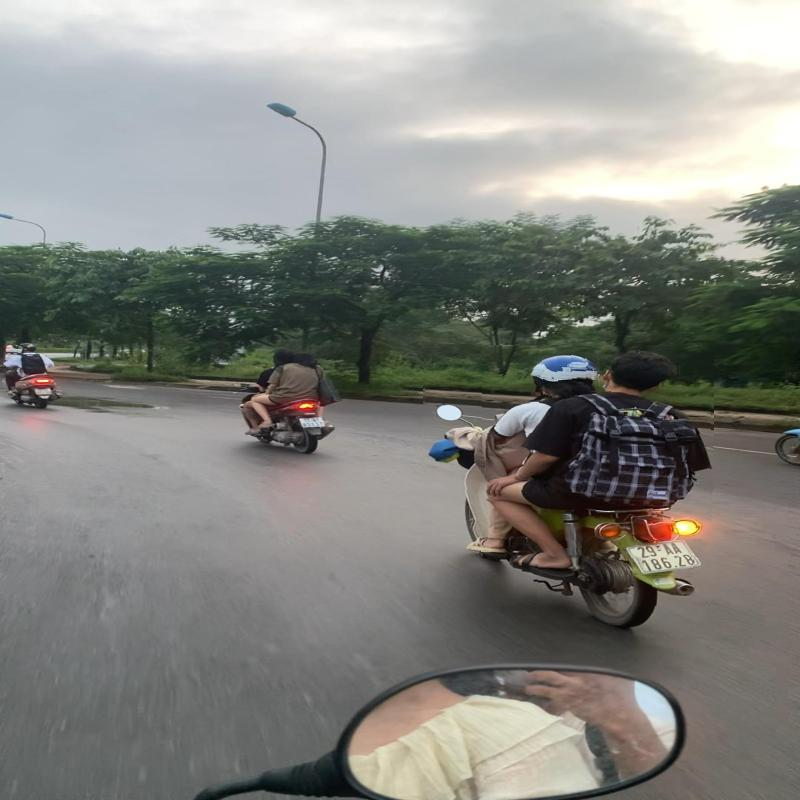helmet: (530, 354, 599, 396)
licenseplate: (625, 540, 702, 576)
motorcyclist: (420, 345, 713, 636)
nohelmet: (599, 346, 680, 396), (272, 348, 298, 364)
